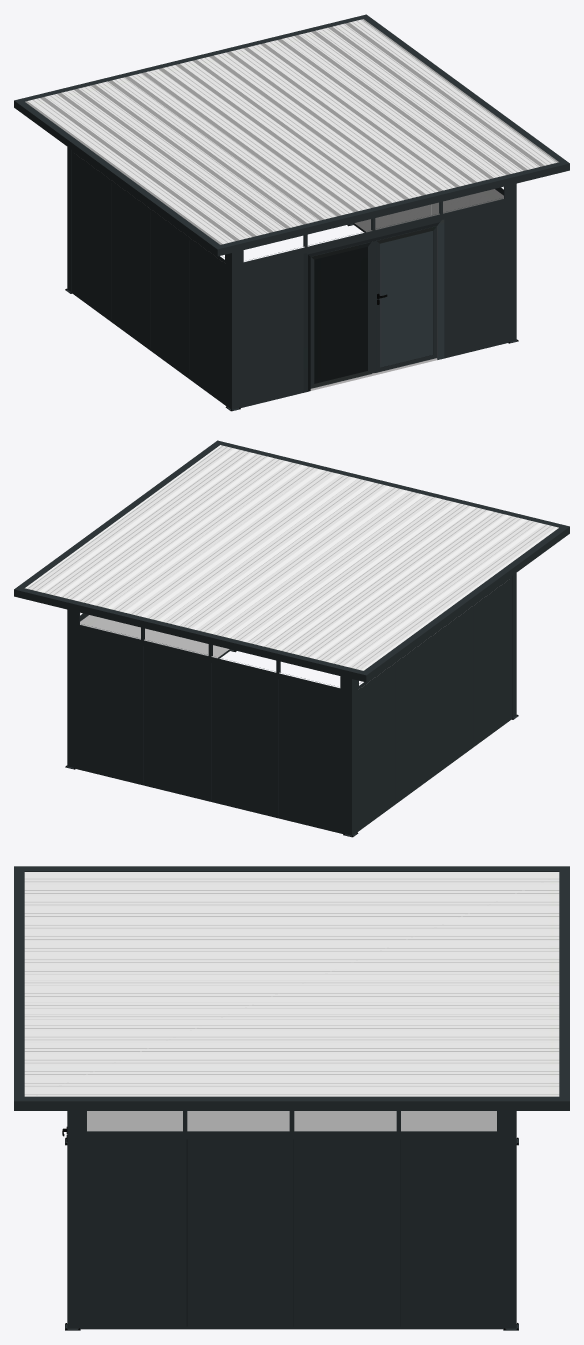
3 renders of one model, top to bottom at view 1: azimuth 30°, elevation 25°; view 2: azimuth 150°, elevation 25°; view 3: azimuth 270°, elevation 25°, orthographic. The views are drawn at different scales.
Visible parts, largest first — view 1: priximbattable_net_abris_de_jardin_640005_abri_de_jardin_mim, folha, folha_2, porta_avec_hublot; view 2: priximbattable_net_abris_de_jardin_640005_abri_de_jardin_mim; view 3: priximbattable_net_abris_de_jardin_640005_abri_de_jardin_mim.
Boxes of the visible parts, bbox=[...] form: priximbattable_net_abris_de_jardin_640005_abri_de_jardin_mim: bbox=[14, 14, 569, 411]; folha: bbox=[310, 241, 375, 388]; folha_2: bbox=[374, 226, 436, 372]; porta_avec_hublot: bbox=[303, 218, 444, 392]; priximbattable_net_abris_de_jardin_640005_abri_de_jardin_mim: bbox=[14, 440, 569, 837]; priximbattable_net_abris_de_jardin_640005_abri_de_jardin_mim: bbox=[14, 866, 569, 1330].
Size of the model in its own units: 520 by 259 by 520.
Materials: 1 (1 with a texture image).
